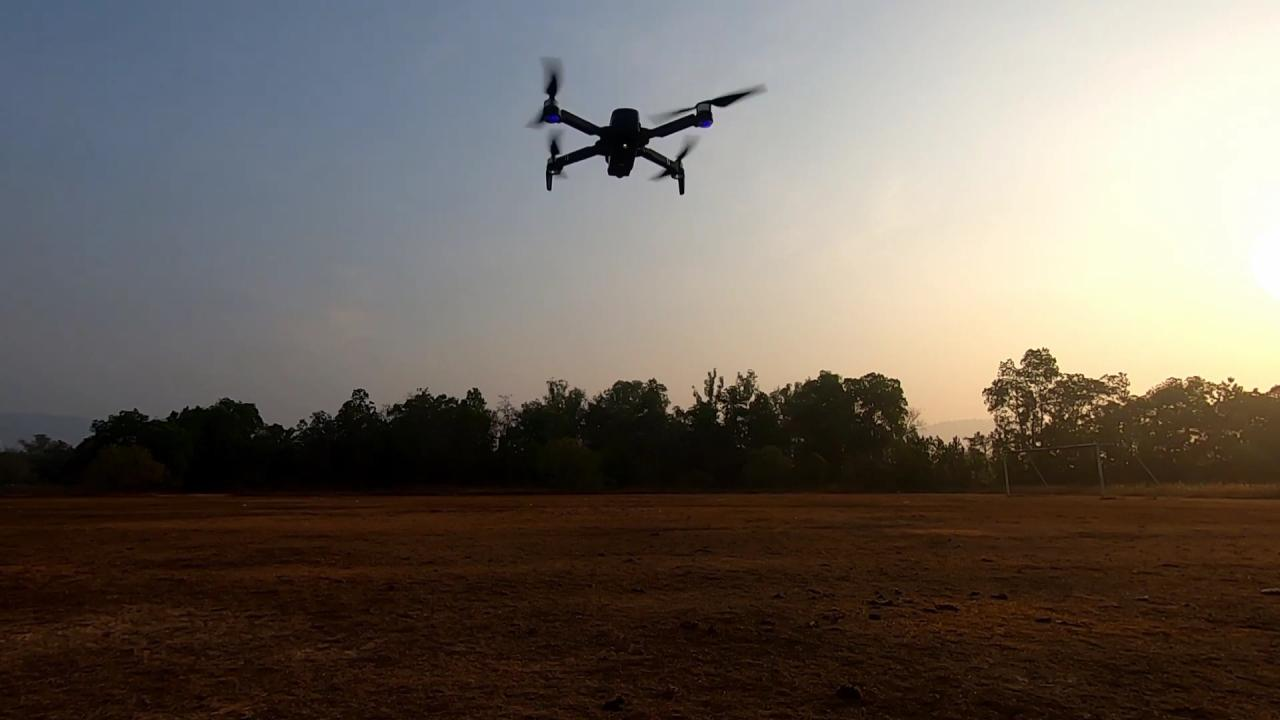Drone: (512, 46, 772, 206)
